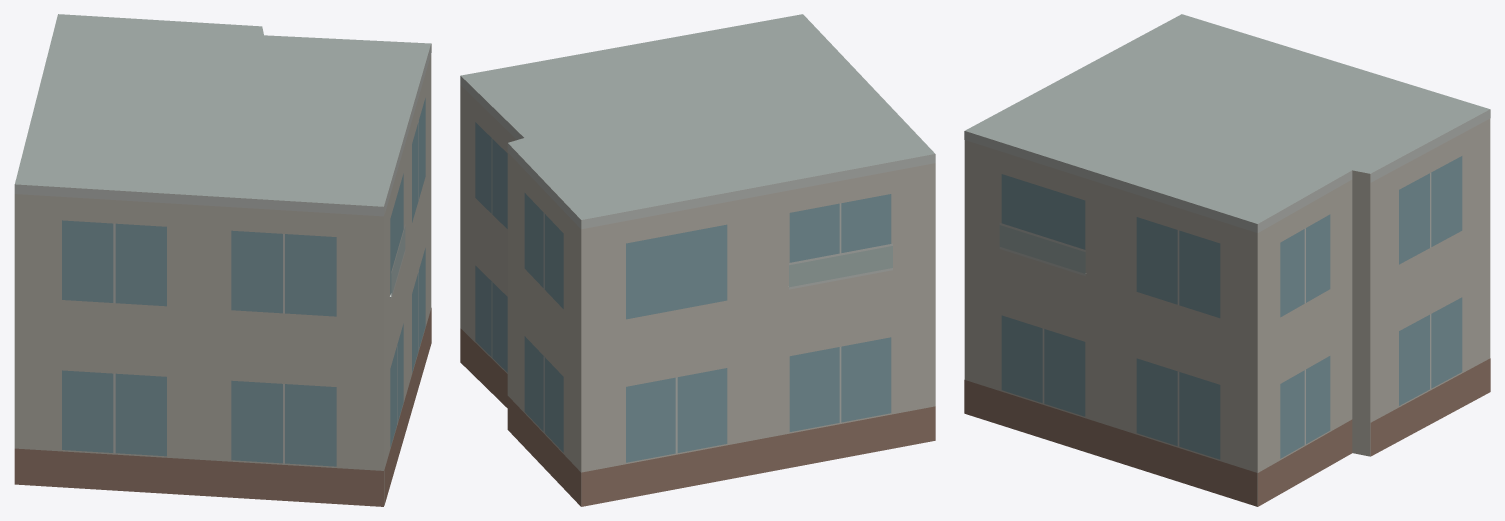
The model's file is survey-upis-32544551.glb.
3 renders of one model, left to right at view 1: azimuth 30°, elevation 25°; view 2: azimuth 150°, elevation 25°; view 3: azimuth 270°, elevation 25°, orthographic. The views are drawn at different scales.
Parts seen in each view (by area): view 1: survey-upis-32544551.tmp; view 2: survey-upis-32544551.tmp; view 3: survey-upis-32544551.tmp.
Part boxes in pixels (x1,y1,x2,y2): survey-upis-32544551.tmp: (14,14,431,506); survey-upis-32544551.tmp: (460,14,935,506); survey-upis-32544551.tmp: (964,14,1490,506).
Size of the model in its own units: 12.12 by 7.6 by 12.82.
